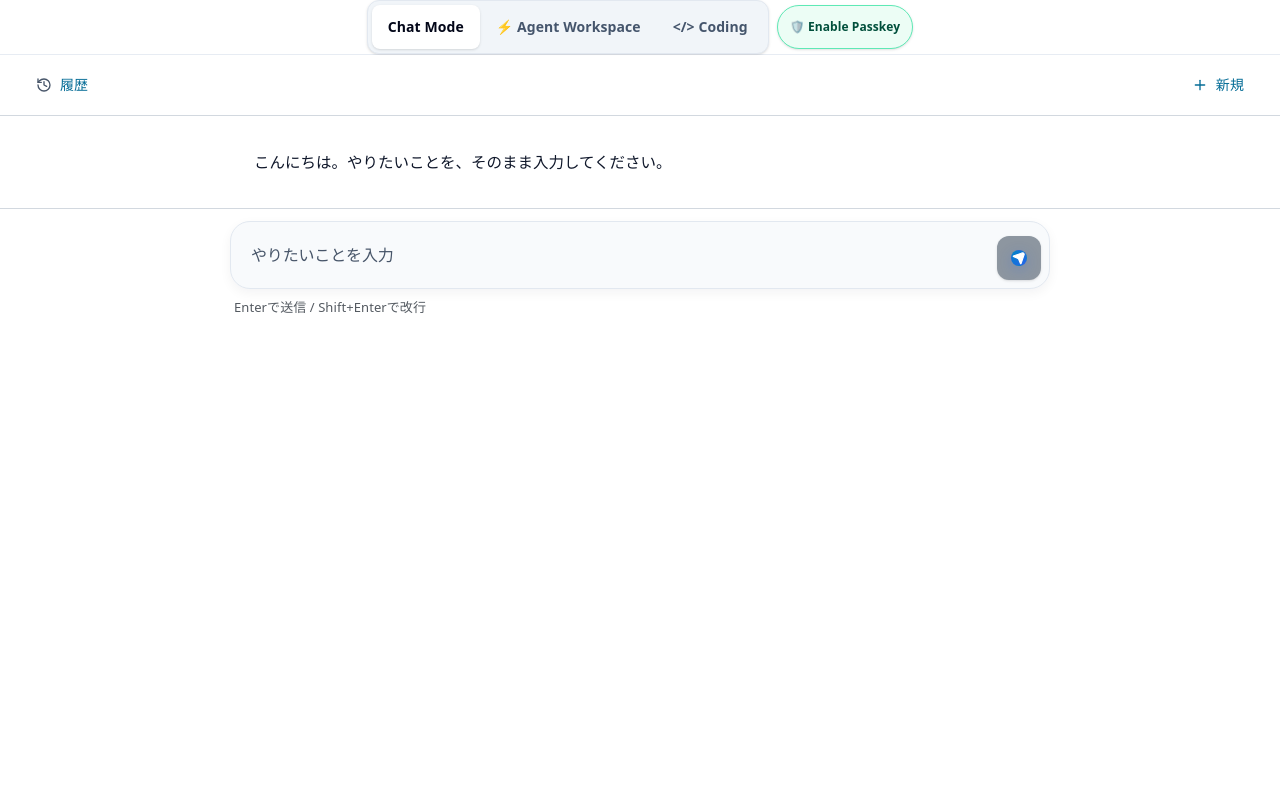
Test: UnifiedChat error details › keeps support identifiers closed until the user asks for them
This screenshot has width=1280, height=800.
Type "文章を確認してください" into the text box with placeholder "やりたいことを入力" at (614, 255), box [239, 230, 989, 280]
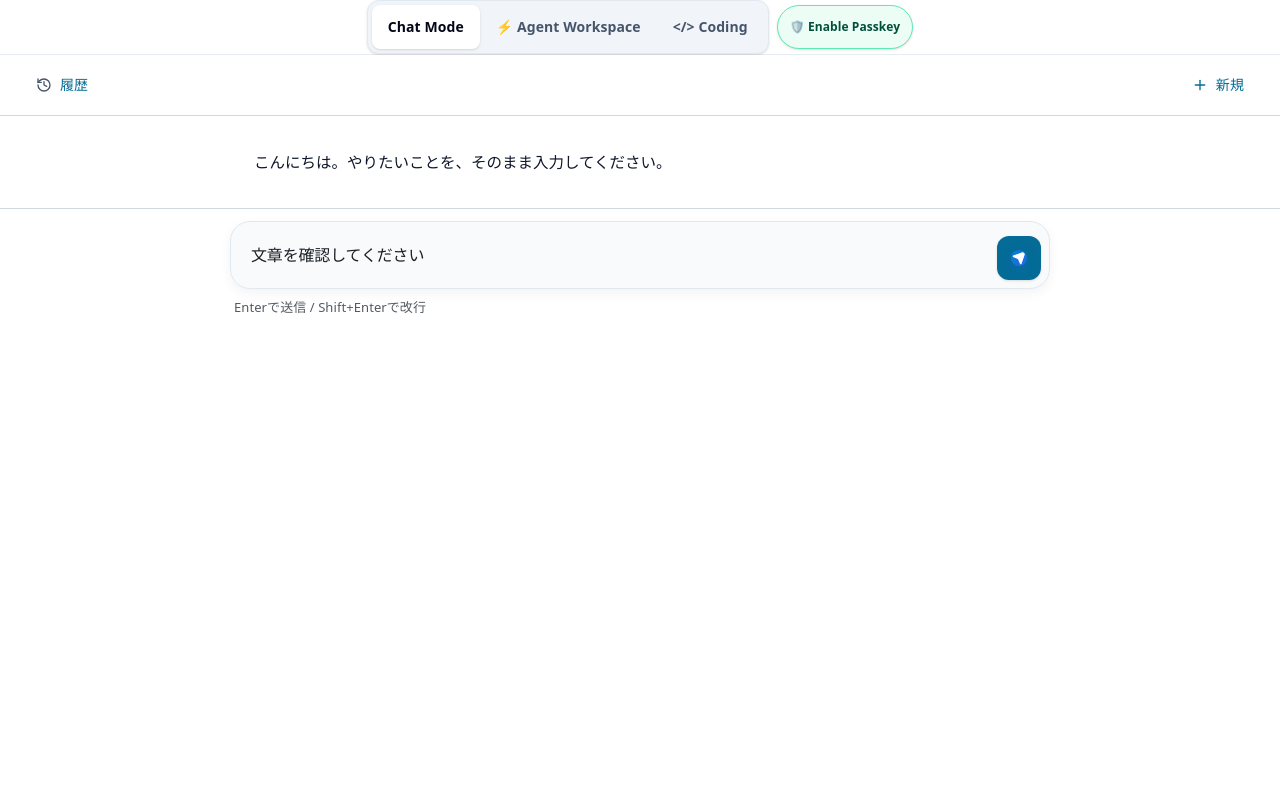
Click the button named "依頼を送信" at (1019, 258), box [997, 236, 1041, 280]
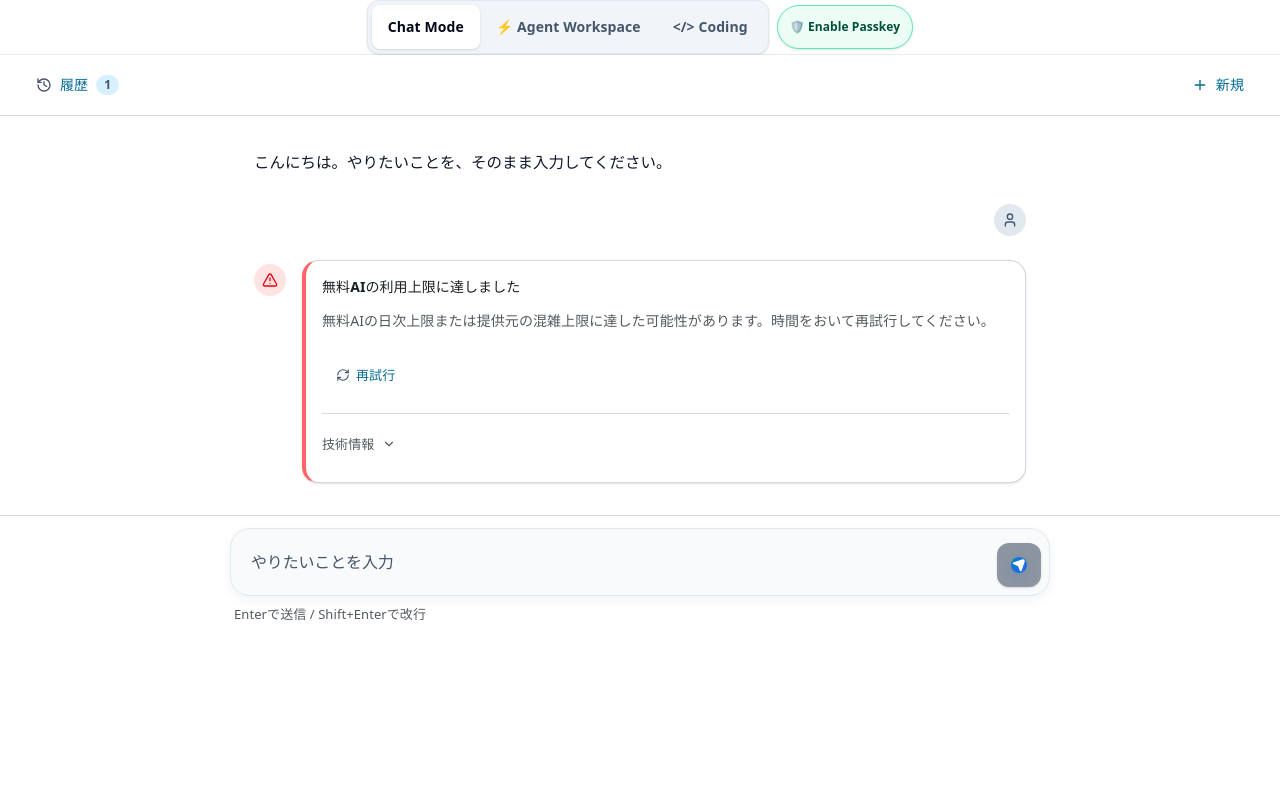
Result: the heading "無料AIの利用上限に達しました" is shown at [322, 277, 520, 296]
Result: the text "技術情報" is shown at [322, 433, 374, 455]
Click the heading "技術情報" at (359, 444), box [322, 435, 396, 453]
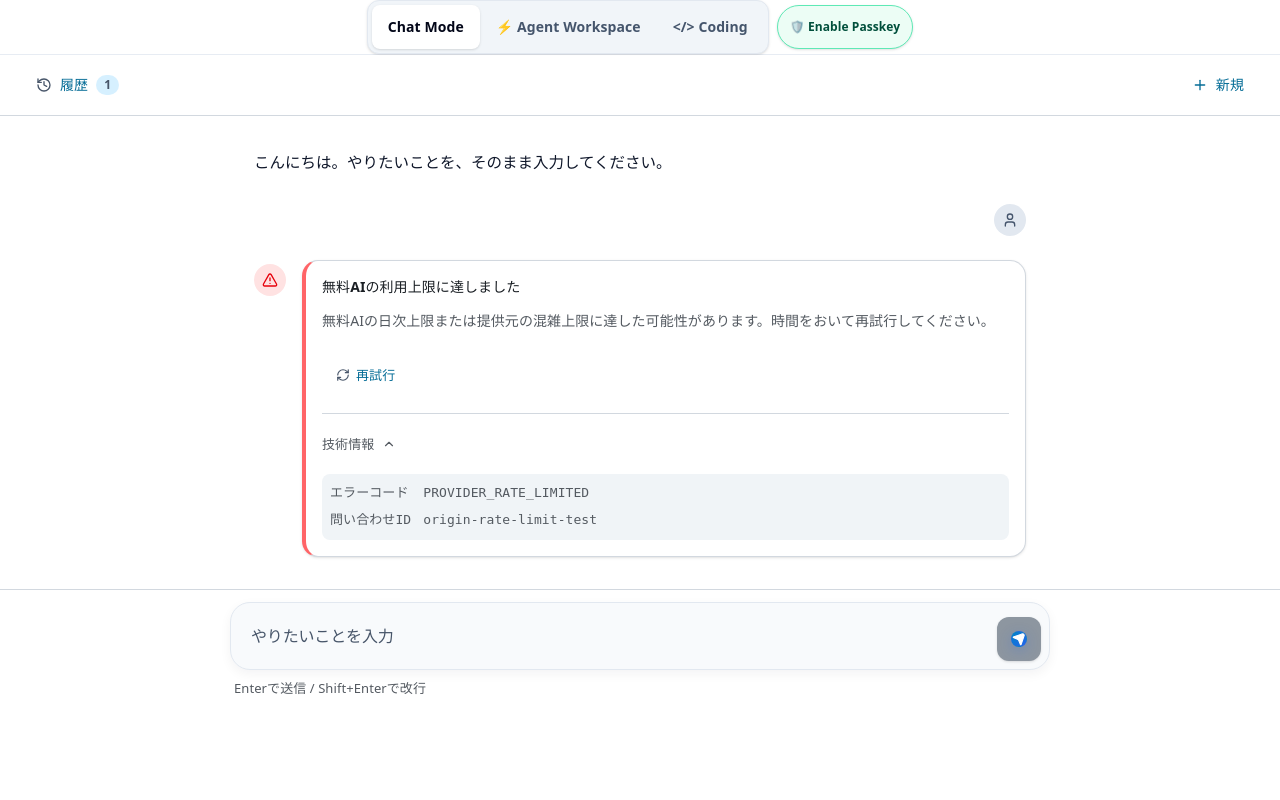
Result: the text "エラーコード" is shown at [330, 482, 411, 505]
Result: the text "PROVIDER_RATE_LIMITED" is shown at [423, 485, 589, 500]
Result: the text "問い合わせID" is shown at [330, 509, 411, 532]
